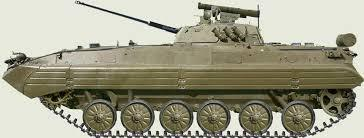tank: (3, 1, 364, 138)
